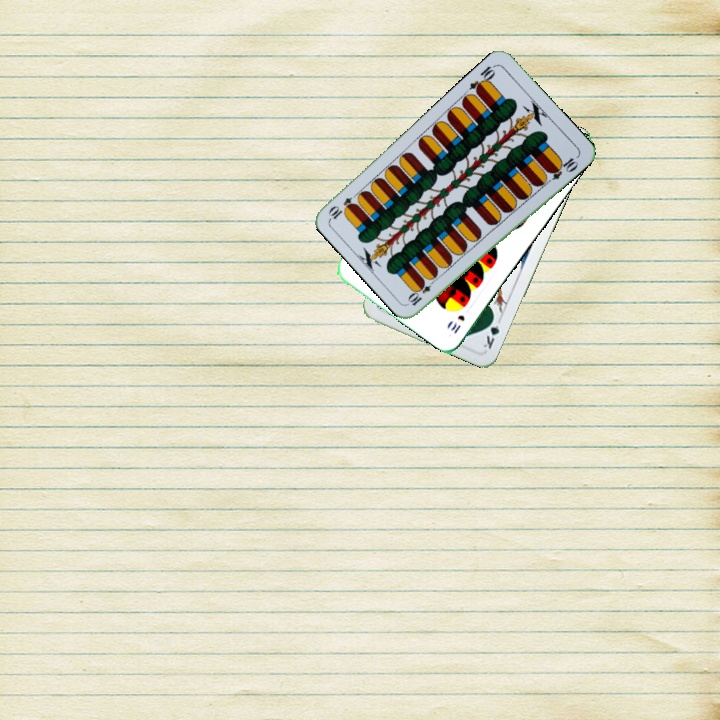E10: (404, 274, 439, 308), (465, 61, 498, 96)
GK: (479, 312, 504, 352)
S10: (447, 311, 467, 336)
